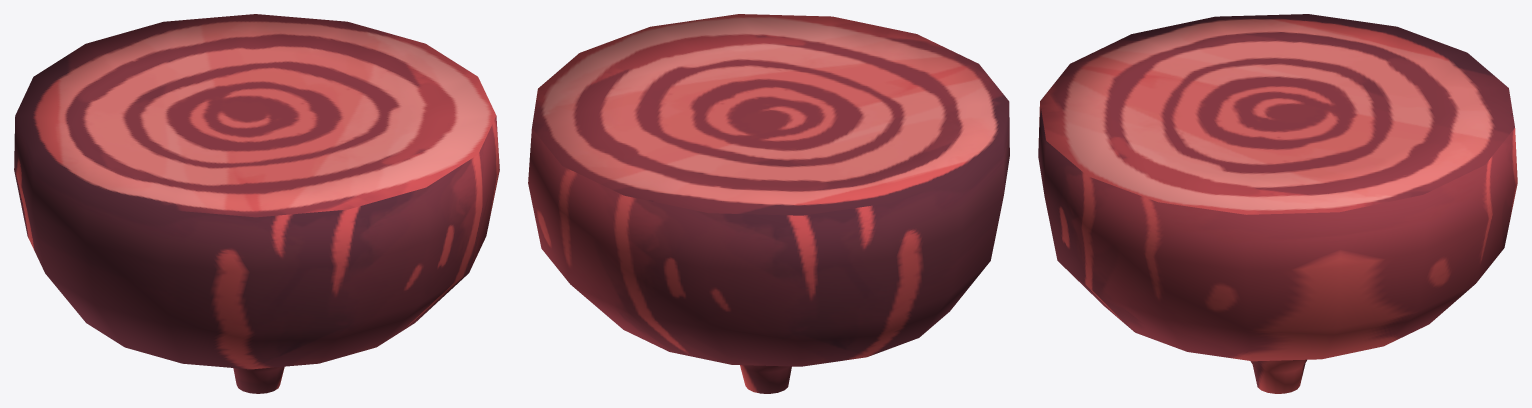
Rendered from Bawang_Half.fbx.
3 views of the same model, side by side, from view 1: azimuth 30°, elevation 25°; view 2: azimuth 150°, elevation 25°; view 3: azimuth 270°, elevation 25° (orthographic).
Visible parts, largest first — view 1: Plane.017; view 2: Plane.017; view 3: Plane.017.
Part boxes in pixels (<box>): Plane.017: <box>14,14,499,393</box>; Plane.017: <box>528,14,1009,393</box>; Plane.017: <box>1038,14,1517,393</box>.
Size of the model in its own units: 15.78 by 15.78 by 9.91.
Materials: 1 (1 with a texture image).
